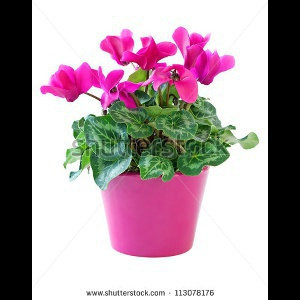flowerpot: (95, 147, 211, 258)
